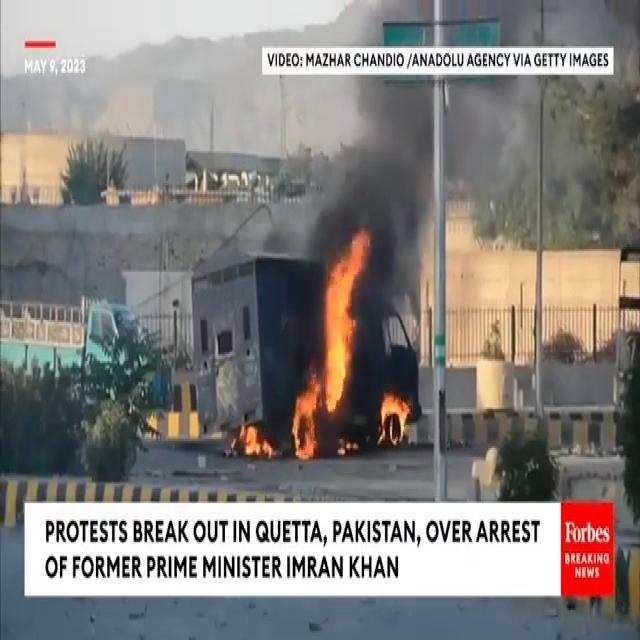Fire: (294, 227, 371, 457), (376, 382, 414, 446), (237, 415, 275, 463)
Smoke: (304, 0, 509, 288)
